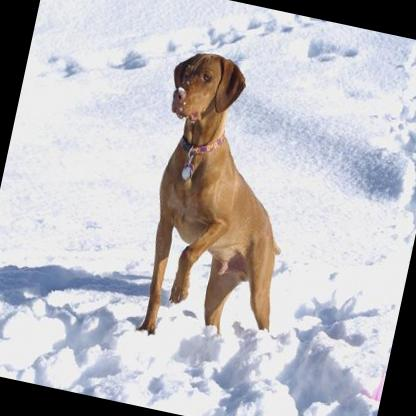vizsla: (114, 41, 330, 367)
